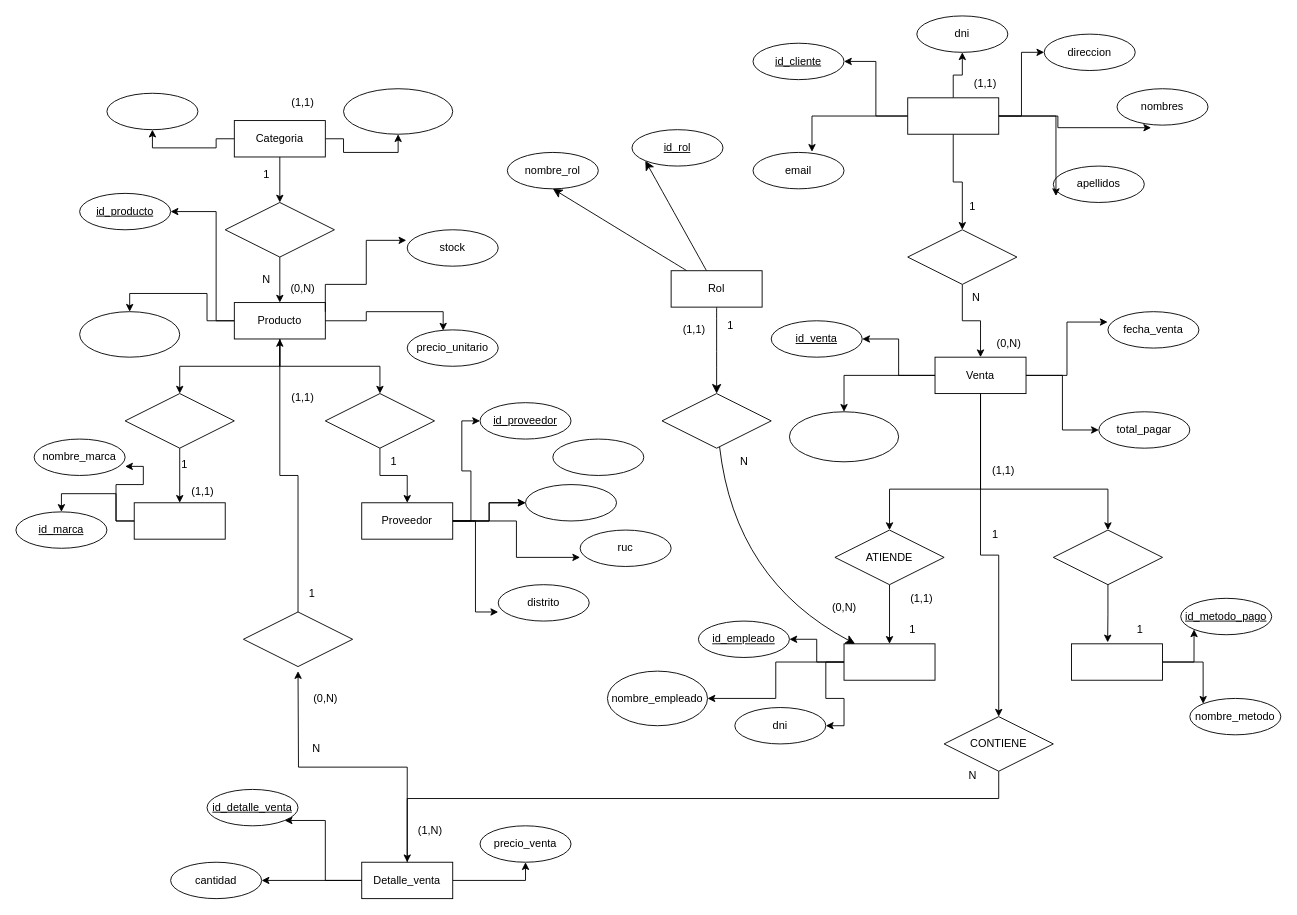
Some shapes in this 1297 by 915 pixel diagram are drawn without their labels. Here are the shapes that lost their labels. From the top down, the centre of each, then its label:
At point (152, 111): "id_categoria".
At point (398, 111): "nombre_categoria".
At point (953, 115): "Cliente".
At point (279, 229): "CLASIFICA".
At point (962, 256): "REALIZA".
At point (129, 334): "nombre_producto".
At point (179, 420): "IDENTIFICA".
At point (379, 420): "ABASTECE".
At point (716, 420): "ASIGNA".
At point (844, 436): "tipo_comprobante".
At point (598, 456): "razon_social".
At point (179, 520): "Marca".
At point (571, 502): "telefono".
At point (1107, 557): "UTILIZA".
At point (298, 639): "APARECE EN".
At point (889, 661): "Empleado".
At point (1117, 661): "Metodo_Pago".
